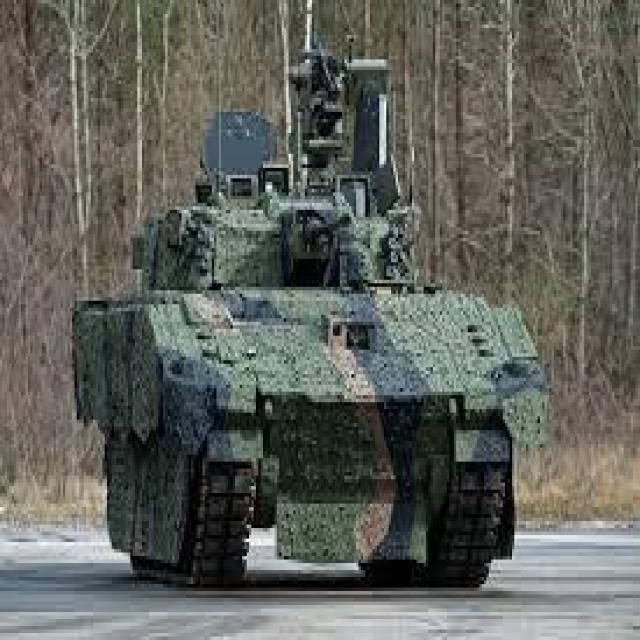Tanks: (80, 25, 548, 605)
